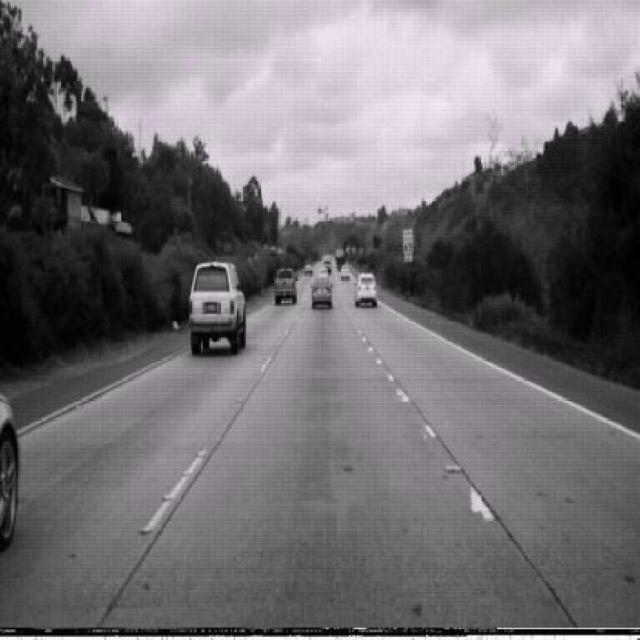speedLimit65: (402, 226, 413, 255)
